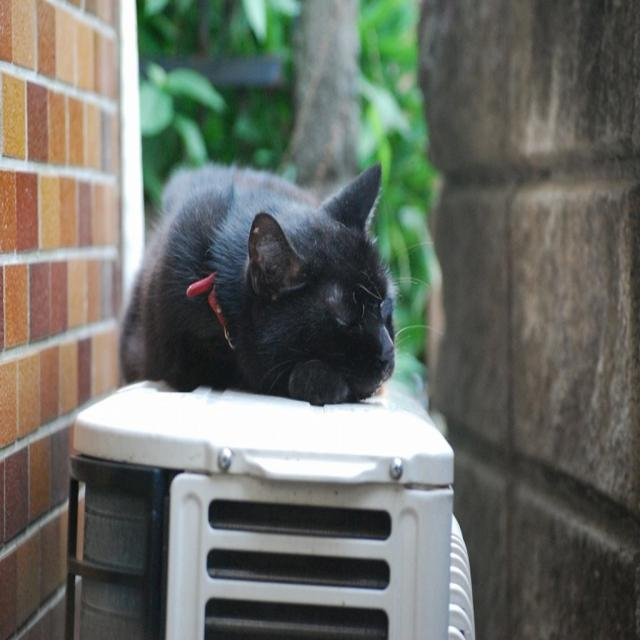Cat: (116, 160, 450, 421)
